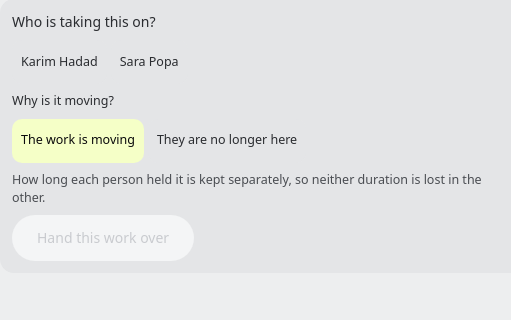
what it says afterwards › says what to do when the server refuses
Click the button "Karim Hadad" at point(59, 62), box [12,40,107,84]
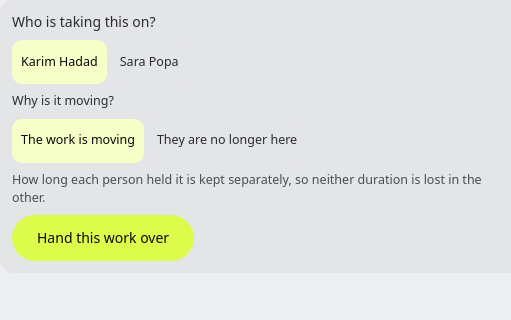
Click the button "Hand this work over" at point(103, 238), box [12,215,194,261]
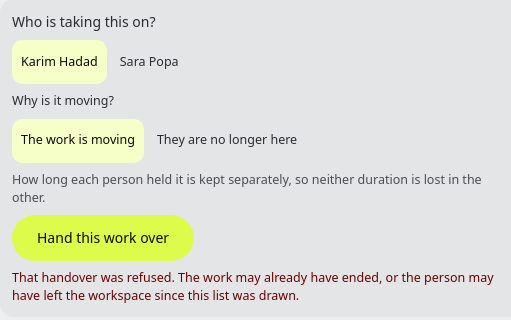
Expected: the text "handover was refused" is shown, [12,269,494,304]
